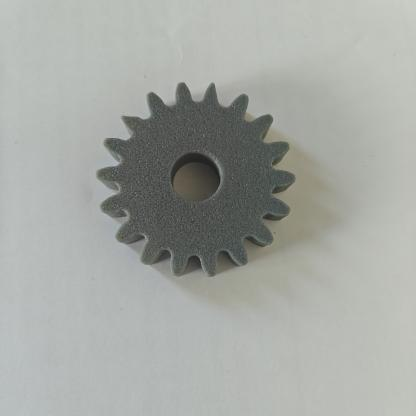defect: (111, 102, 148, 137)
gear: (80, 72, 323, 296)
